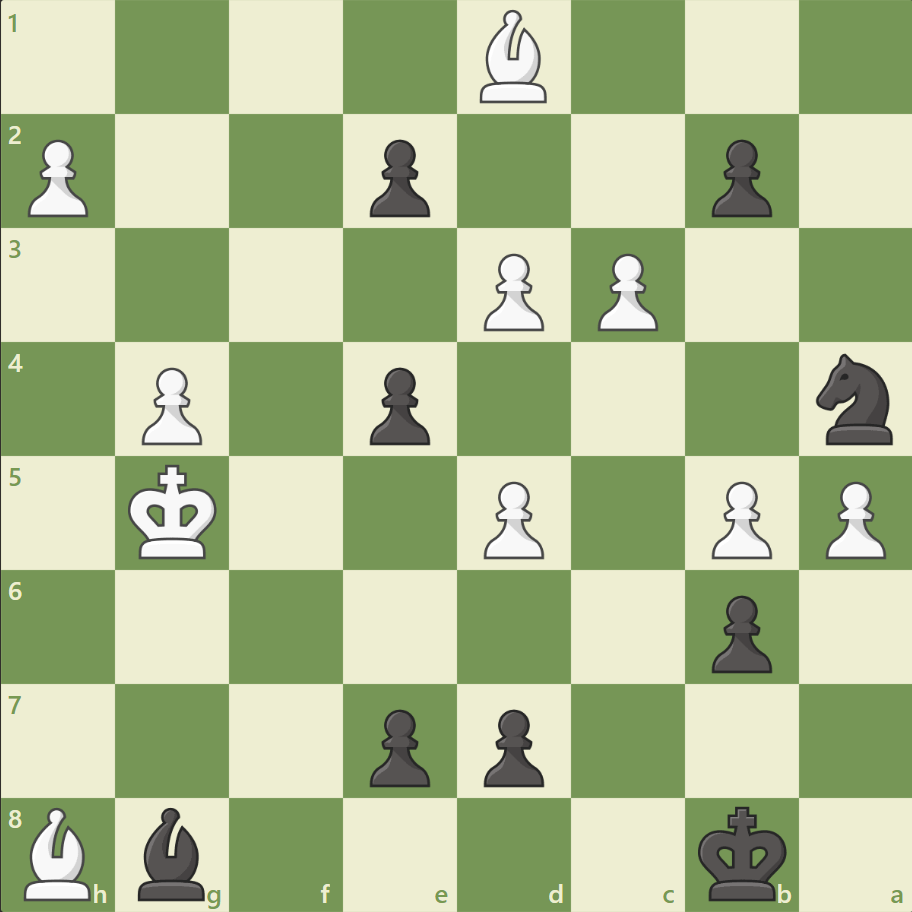B: (17, 801, 101, 904), (471, 6, 555, 109)
K: (124, 458, 224, 566)
P: (701, 473, 776, 564), (474, 473, 549, 564), (133, 359, 208, 450), (474, 246, 549, 337), (20, 132, 95, 223), (815, 473, 889, 564), (588, 246, 662, 337)
b: (131, 801, 215, 904)
k: (692, 798, 792, 906)
n: (806, 348, 903, 450)
p: (474, 700, 549, 791), (701, 586, 776, 677), (701, 132, 776, 223), (361, 700, 435, 791), (361, 359, 435, 450), (361, 132, 435, 223)
